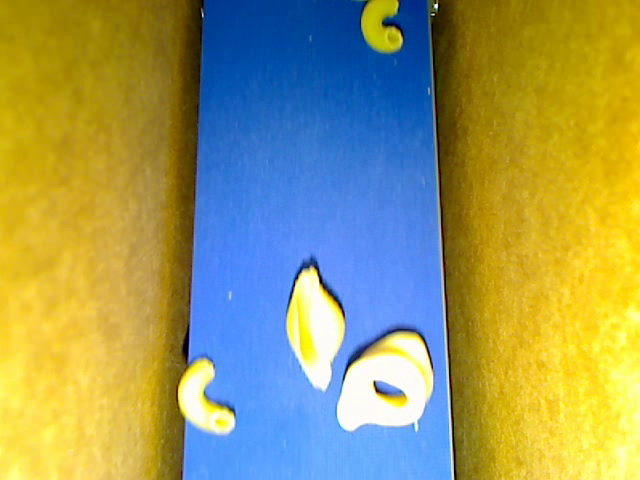elbow: (176, 354, 234, 434), (361, 1, 402, 53)
shell: (286, 264, 344, 392)
tortellini: (335, 330, 433, 431)
